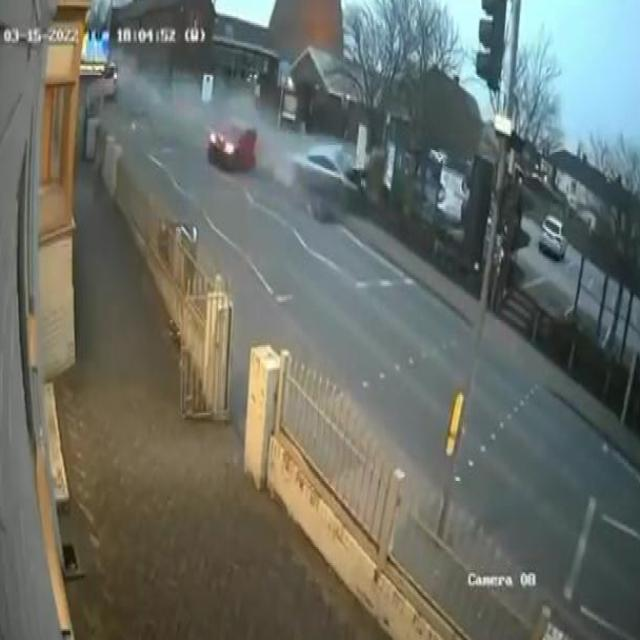accident: (203, 114, 377, 230)
